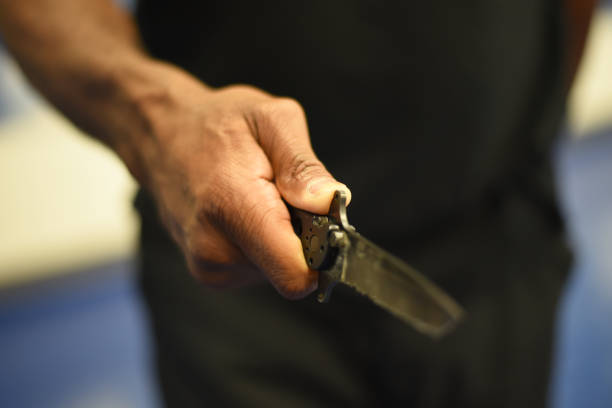knife: (288, 189, 465, 343)
